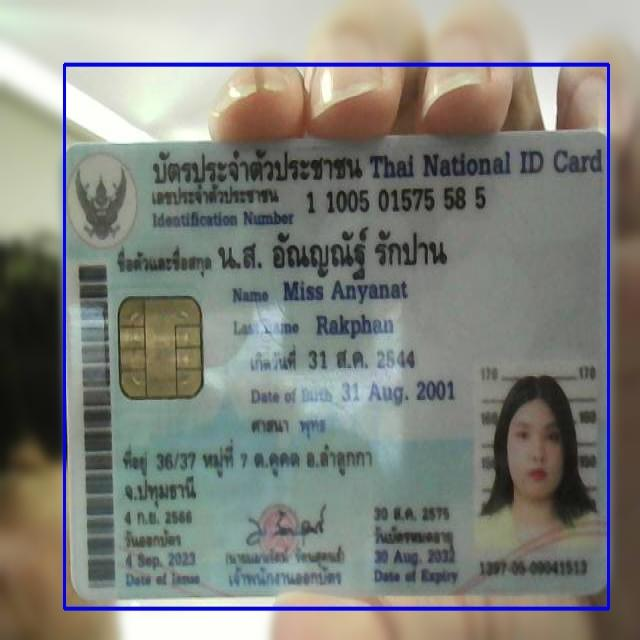Address_th: (119, 440, 377, 510)
Date_of_Birth: (338, 376, 460, 411)
Date_of_Expiry: (368, 544, 460, 570)
Date_of_Issue: (120, 551, 200, 573)
First_Name: (279, 278, 412, 308)
ID_Number: (302, 183, 489, 217)
Image: (477, 366, 599, 549)
Last_Name: (314, 311, 398, 343)
Thai_Name: (212, 223, 461, 280)
